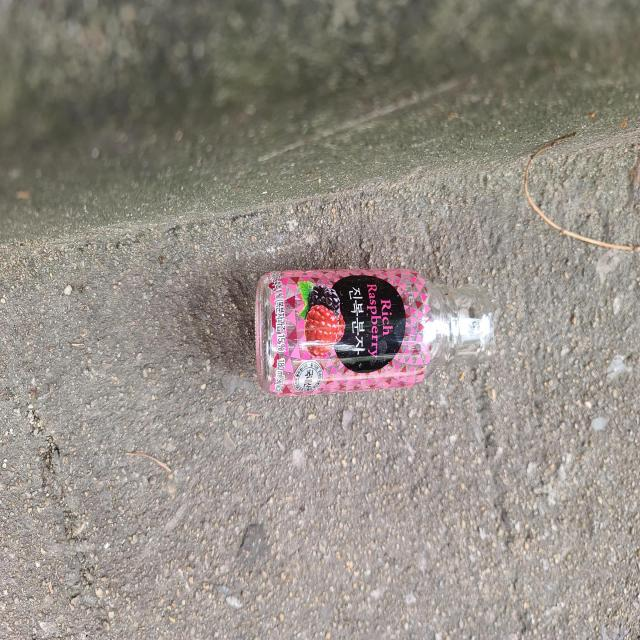glass: (256, 269, 495, 396)
